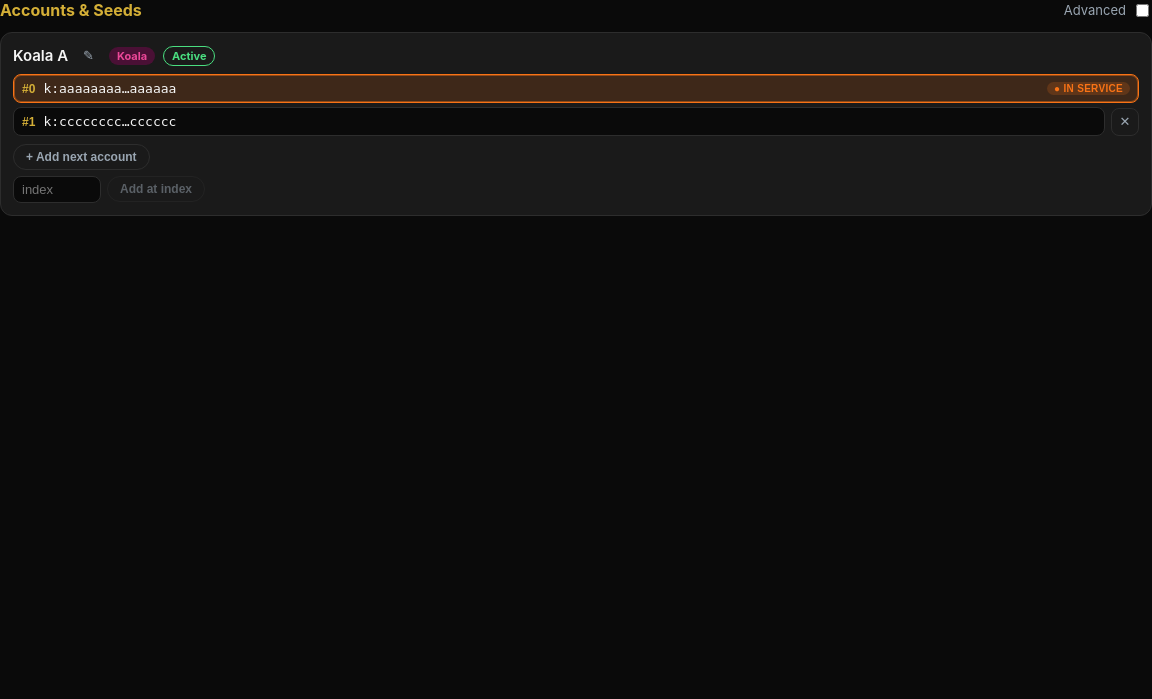
it: AdvancedTab › shows imported pure keys in the Pure Keys section (advanced mode only)
This screenshot has width=1152, height=699.
Expected: the element with test id "seed-wallet-1" is shown, [0,32,1151,216]
Click the checkbox with test id "advanced-mode-toggle". click: click(1142, 10)
box: [1136,4,1149,16]
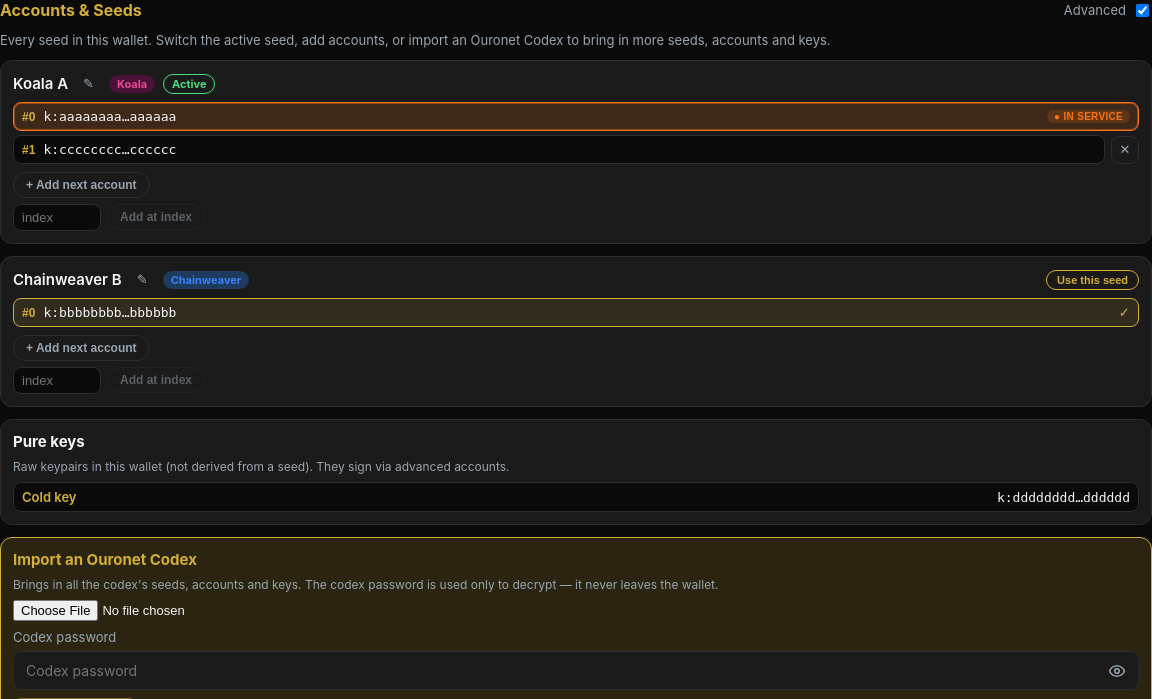
Result: the element with test id "pure-keys-panel" is shown at [0,419,1151,525]
